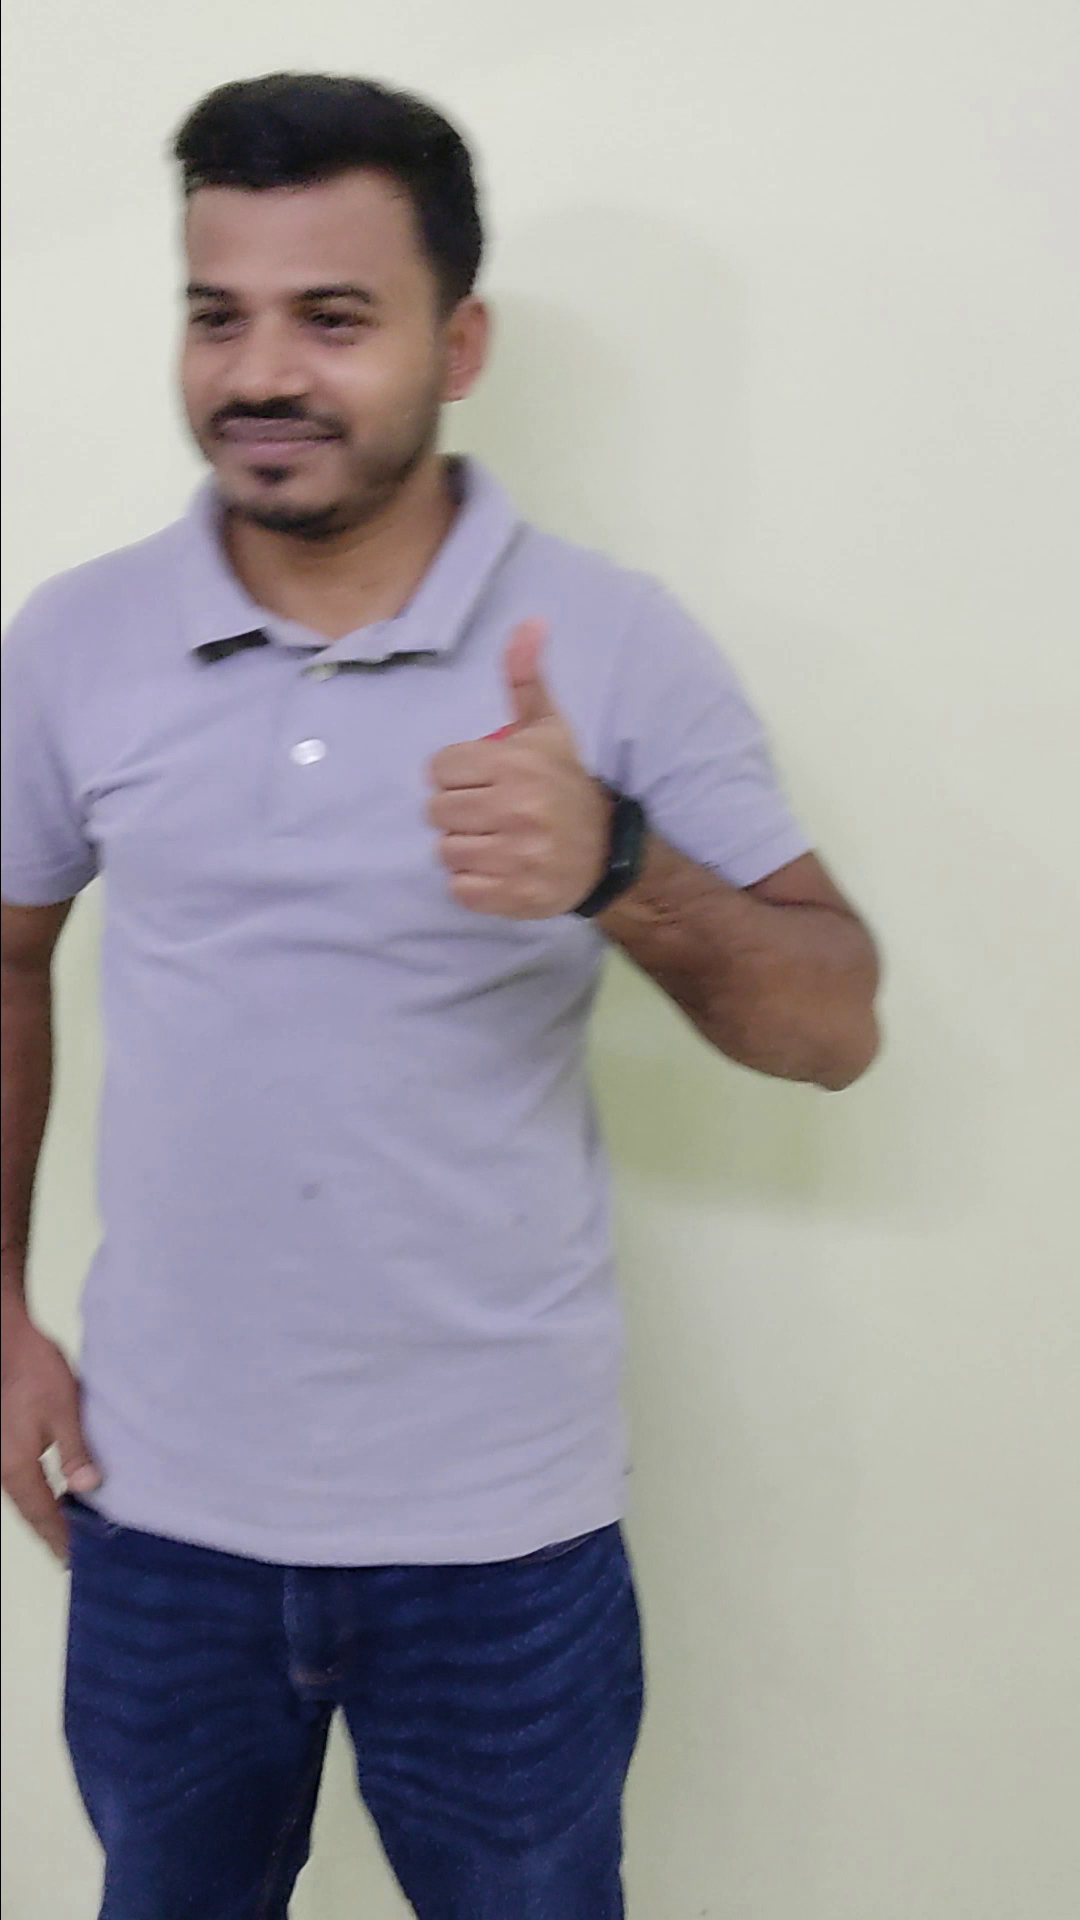Like: (404, 597, 636, 935)
None: (4, 1324, 121, 1578)
